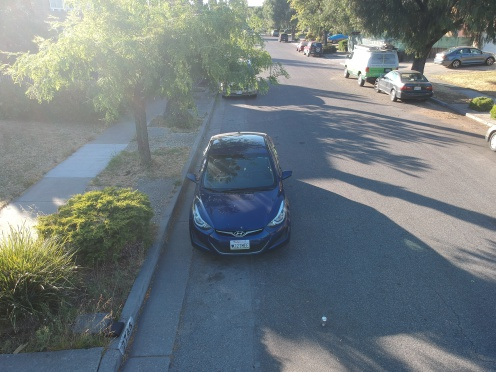can: (319, 314, 328, 329)
